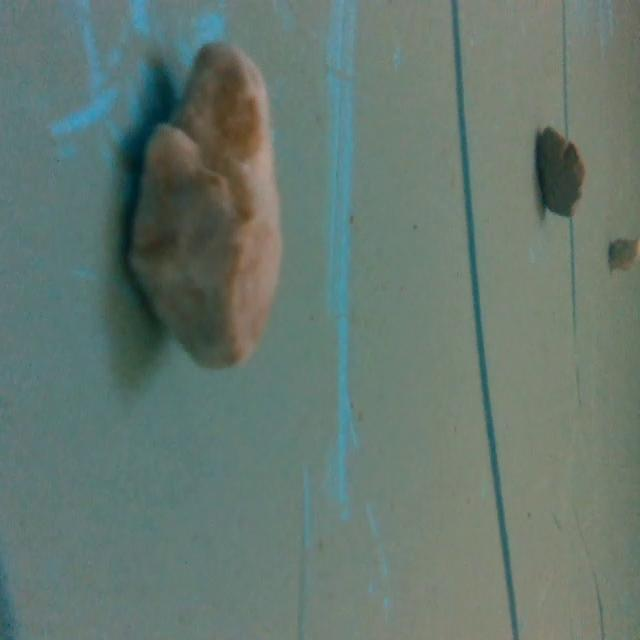rock: (119, 36, 292, 384), (528, 113, 588, 225)
